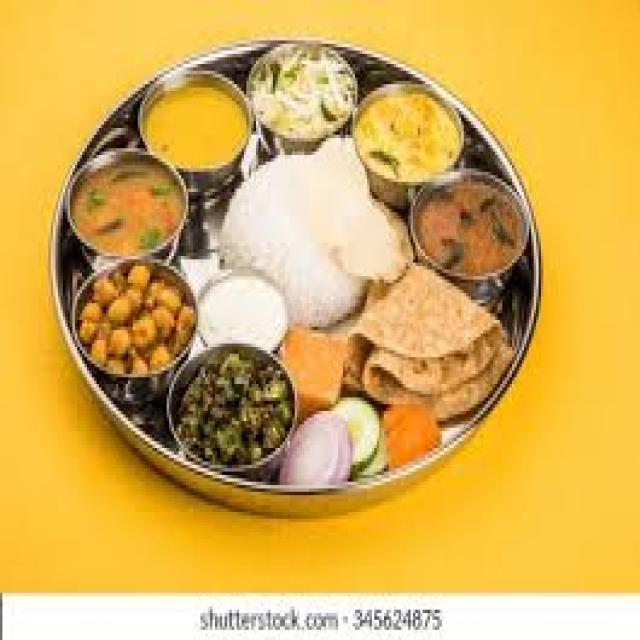curd: (198, 270, 290, 354)
dal: (354, 68, 476, 193), (139, 64, 255, 177)
rice: (221, 148, 362, 301)
roti: (349, 262, 515, 412)
sambar-rasam: (59, 143, 196, 269)
veg-fry: (171, 340, 296, 480)
